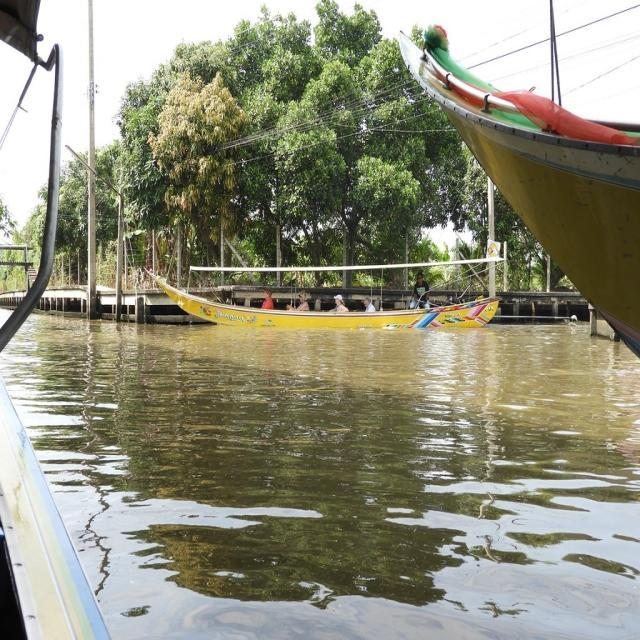boat: (127, 258, 518, 345)
